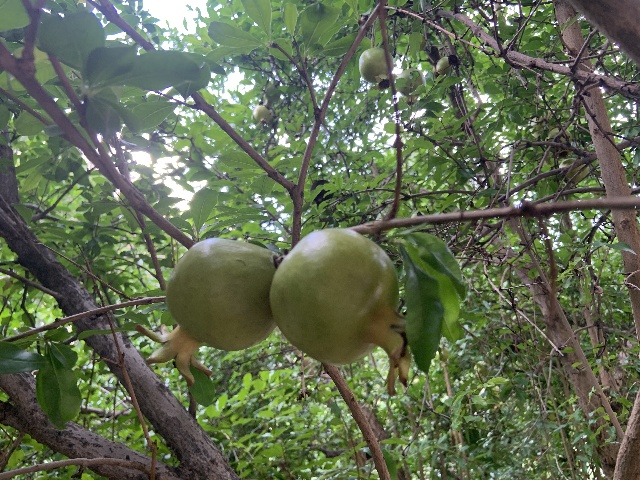mid-growth: (270, 228, 414, 397), (134, 238, 278, 385), (358, 47, 395, 90), (396, 68, 425, 106), (528, 110, 560, 139), (559, 157, 589, 186), (545, 128, 572, 159), (433, 56, 453, 77), (253, 105, 272, 127)
